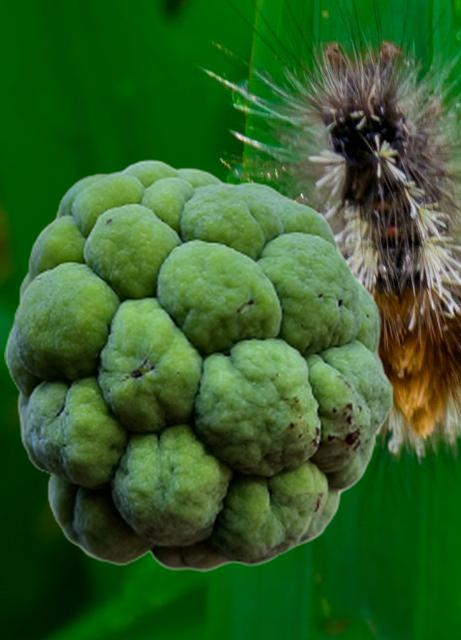atis: (4, 158, 393, 572)
